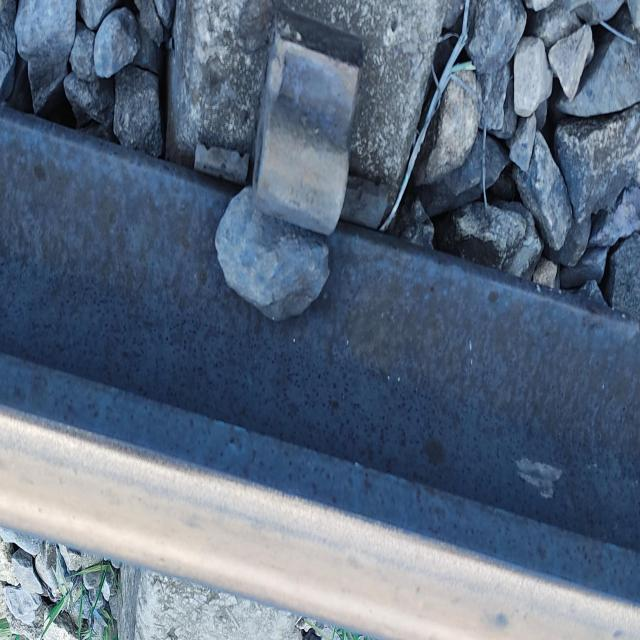Missing Fastener: (231, 4, 377, 258)
